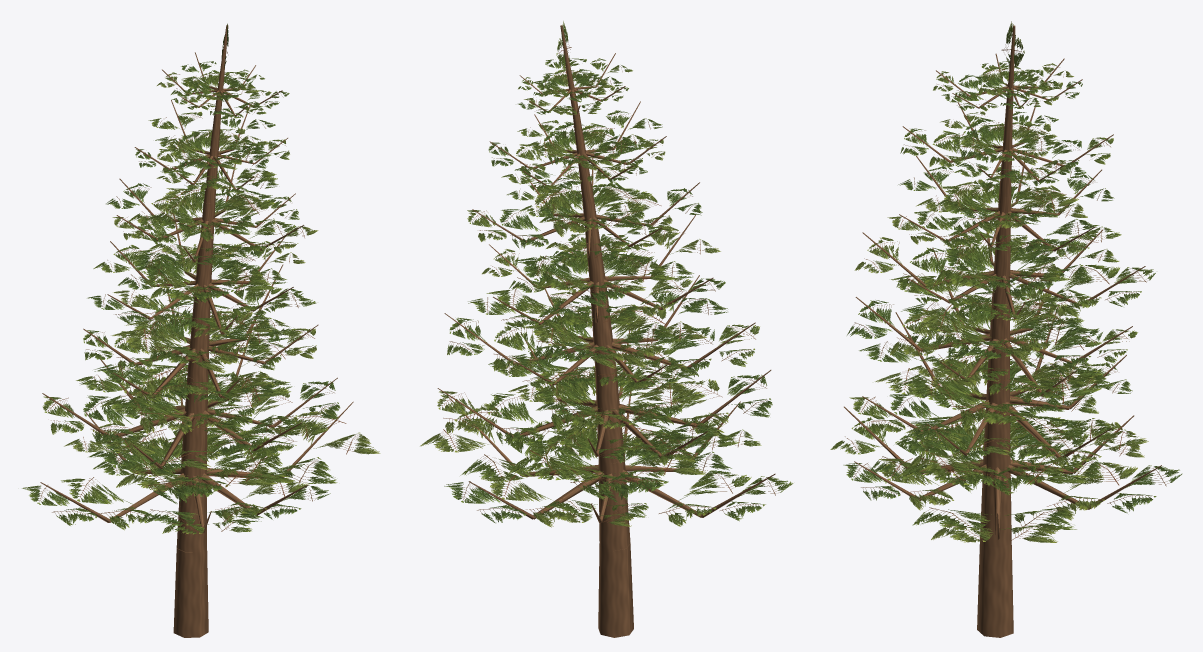
File: shore-pine-mid.glb
3 renders of one model, left to right at view 1: azimuth 30°, elevation 25°; view 2: azimuth 150°, elevation 25°; view 3: azimuth 270°, elevation 25°, orthographic. The views are drawn at different scales.
Parts seen in each view (by area): view 1: Crown_Foliage, Trunk_Wood; view 2: Crown_Foliage, Trunk_Wood; view 3: Crown_Foliage, Trunk_Wood.
Boxes of the visible parts, <box> form: Crown_Foliage: <box>22,23,380,534</box>; Trunk_Wood: <box>40,25,353,637</box>; Crown_Foliage: <box>420,21,793,527</box>; Trunk_Wood: <box>437,25,775,637</box>; Crown_Foliage: <box>830,21,1182,542</box>; Trunk_Wood: <box>844,25,1161,637</box>.
Size of the model in its own units: 7.35 by 13.25 by 6.82.
Materials: 2 (2 with a texture image).
